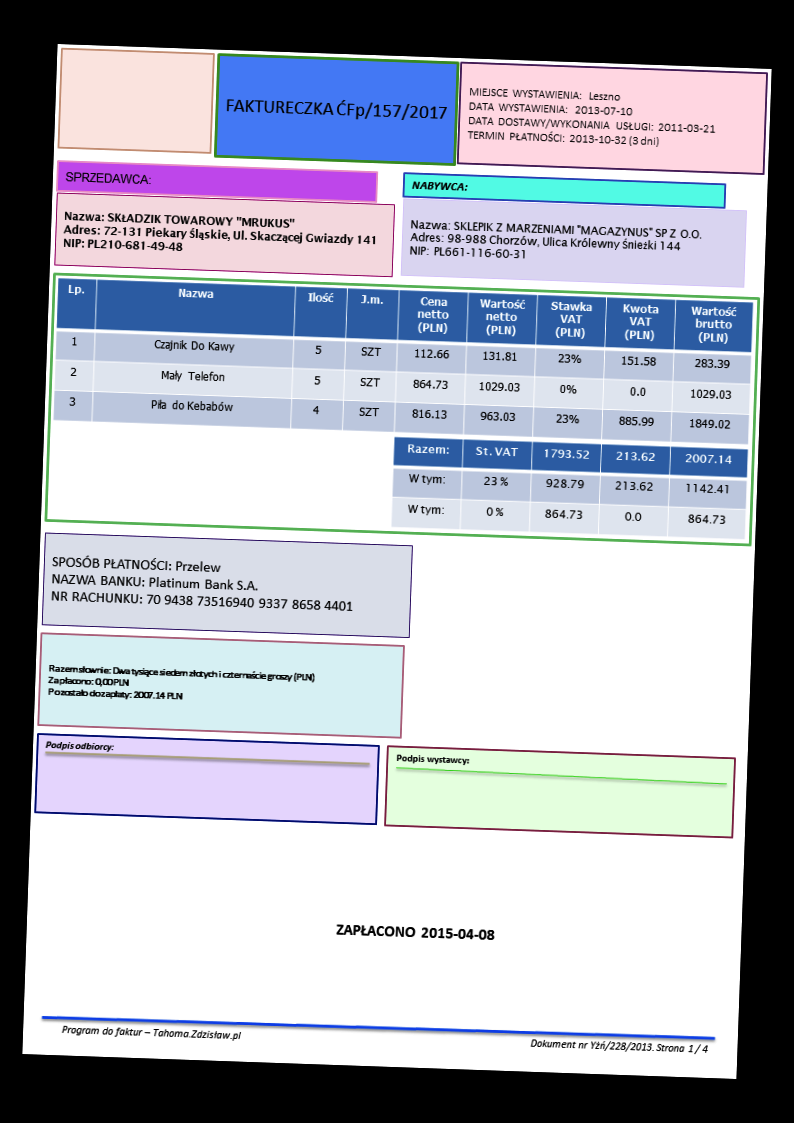Table: (51, 275, 752, 443), (388, 434, 750, 540)
TextBox: (45, 550, 358, 616), (59, 204, 378, 264), (461, 82, 721, 154), (405, 213, 705, 270), (45, 659, 320, 709), (218, 88, 450, 126), (55, 1017, 244, 1047), (328, 916, 499, 946), (528, 1035, 714, 1058), (60, 167, 153, 187), (42, 734, 117, 757), (388, 749, 471, 769), (408, 176, 468, 196)
